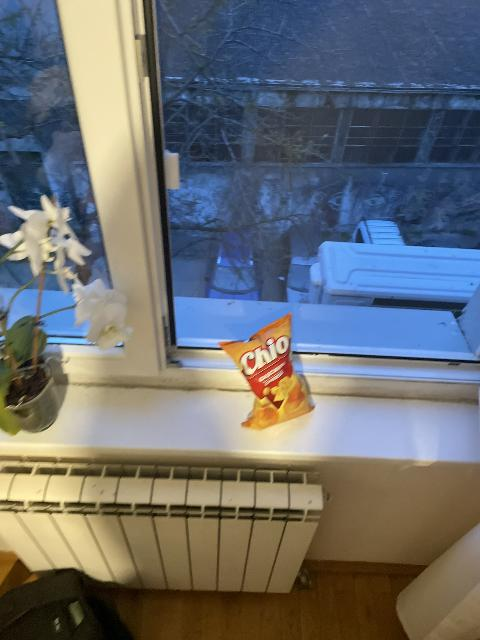Chio Cascaval 125g: (222, 309, 317, 426)
